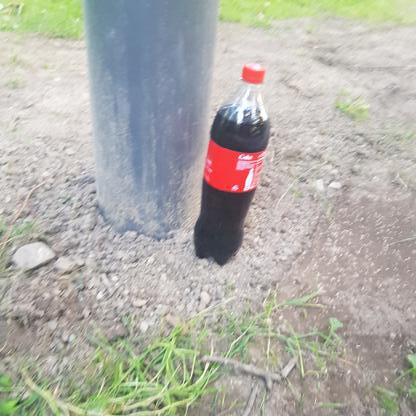coca-cola: (194, 62, 273, 266)
